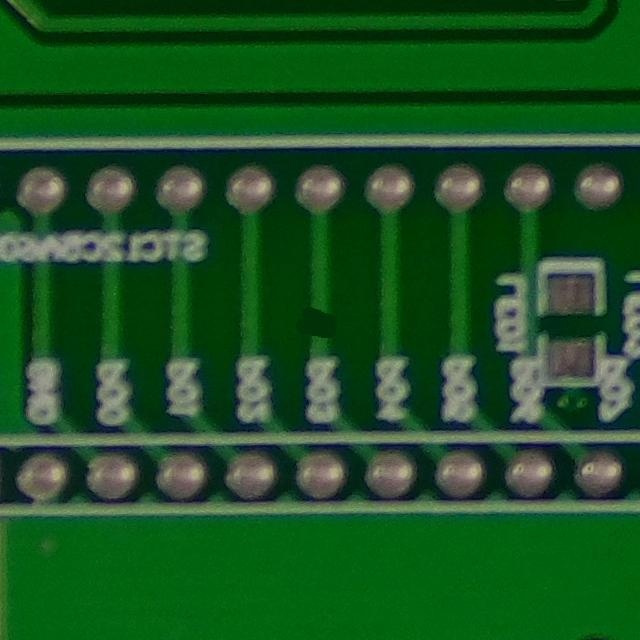open_circuit: (298, 296, 342, 344)
